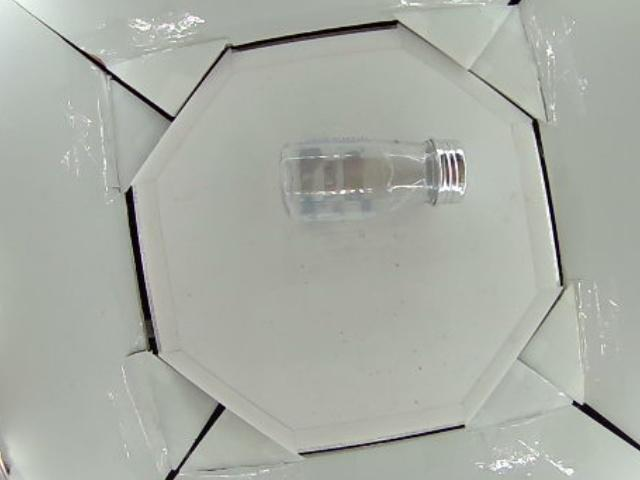Bottle: (276, 138, 468, 224)
